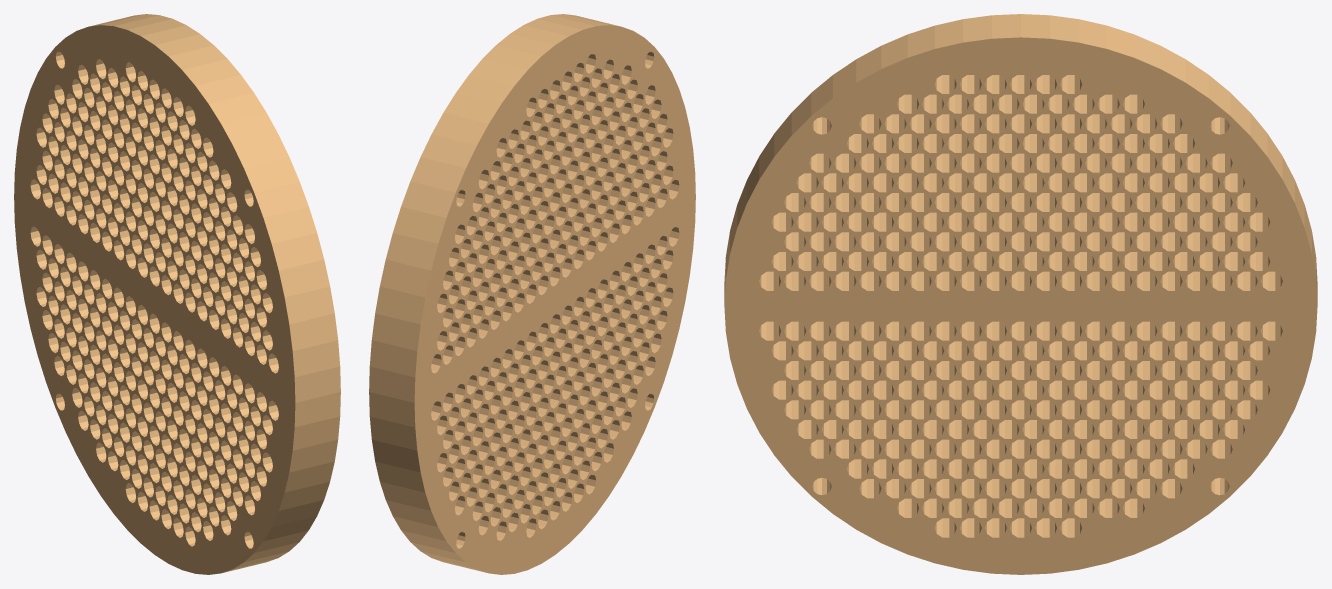
The model's file is 5_Tubesheet_Floating.glb.
3 views of the same model, side by side, from view 1: azimuth 30°, elevation 25°; view 2: azimuth 150°, elevation 25°; view 3: azimuth 270°, elevation 25° (orthographic). The views are drawn at different scales.
Visible parts, largest first — view 1: geometry_0; view 2: geometry_0; view 3: geometry_0.
Part boxes in pixels (<box>): geometry_0: <box>14,14,340,574</box>; geometry_0: <box>369,14,695,574</box>; geometry_0: <box>724,14,1317,574</box>.
Bounding box in the file's own units: 0.02 × 0.214 × 0.214.
